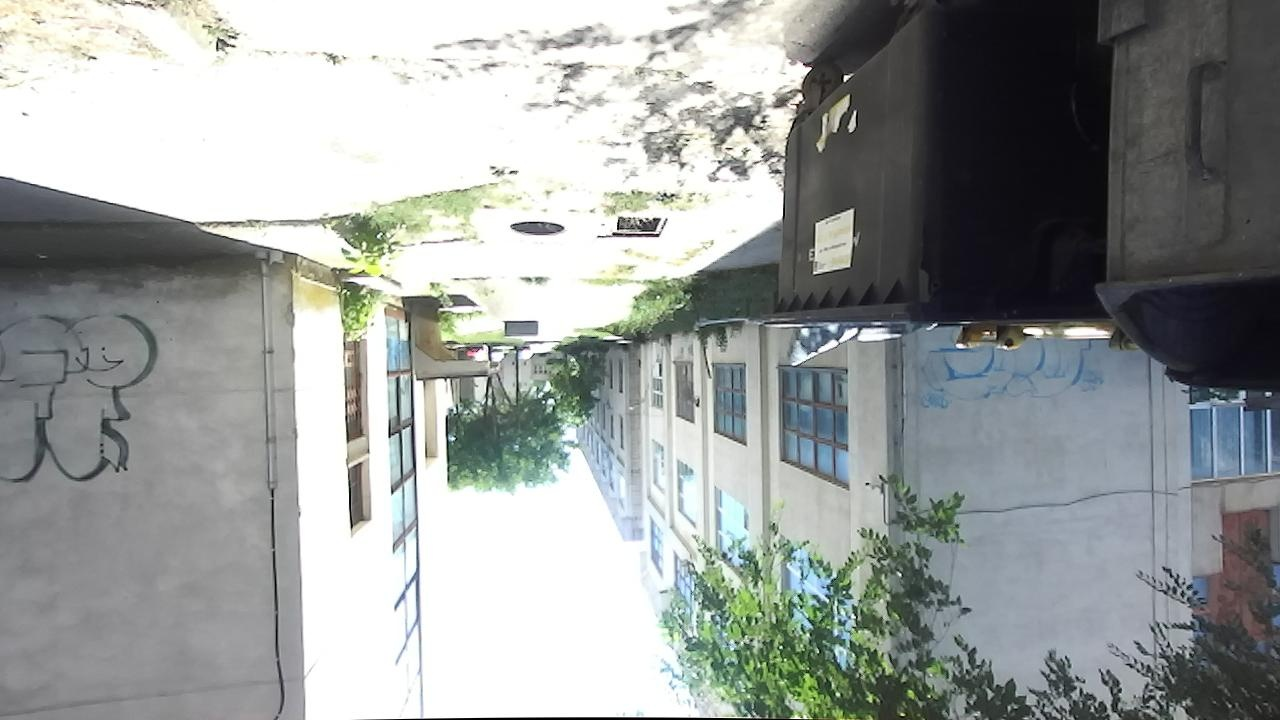drain: (612, 211, 673, 241), (507, 213, 570, 242)
